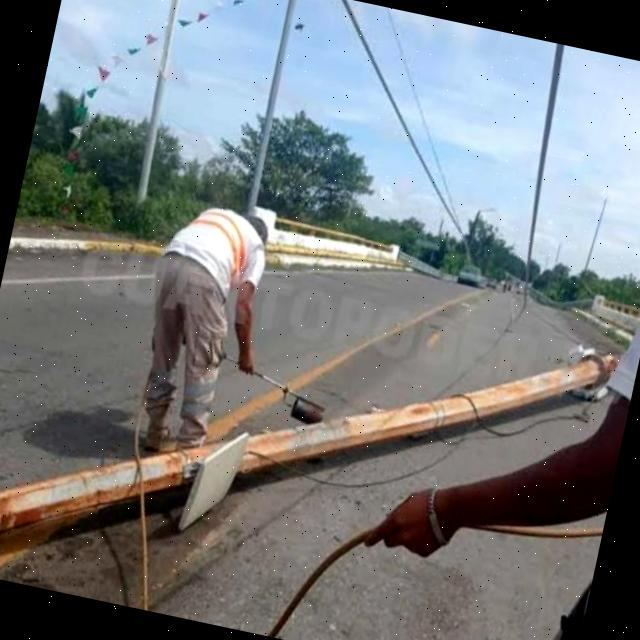Broken Pole: (0, 344, 617, 540)
